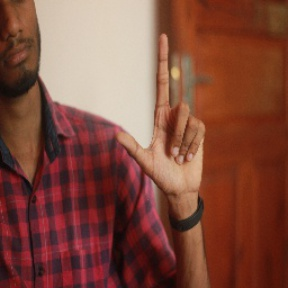L: (116, 33, 209, 192)
